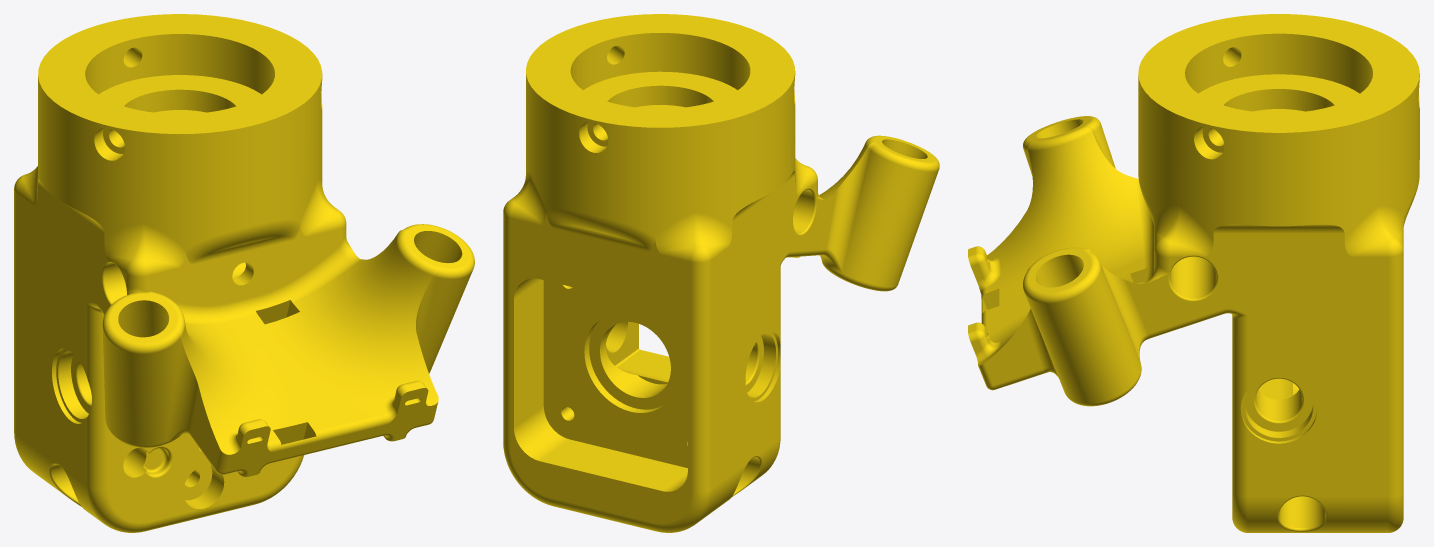
File: A26_H101_body.gltf
The picture shows the model from 3 angles, left to right: view 1: azimuth 30°, elevation 25°; view 2: azimuth 150°, elevation 25°; view 3: azimuth 270°, elevation 25°; orthographic projection. The views are drawn at different scales.
Visible parts, largest first — view 1: mesh2891, mesh3099, mesh3067, mesh2881, mesh3106, mesh2880, mesh2944, mesh3161, mesh3111, mesh3044, mesh2955, mesh3089 (+30 smaller); view 2: mesh2891, mesh3184, mesh3099, mesh3185, mesh2881, mesh3111, mesh2880, mesh2915, mesh3186, mesh3187, mesh3143, mesh2879 (+20 smaller); view 3: mesh3077, mesh2891, mesh2881, mesh3106, mesh3064, mesh2880, mesh2913, mesh3194, mesh3084, mesh2879, mesh3048, mesh2878 (+21 smaller).
Part boxes in pixels (x1,y1,x2,y2): mesh2891: (38, 74, 322, 249); mesh3099: (16, 185, 129, 486); mesh3067: (264, 233, 438, 416); mesh2881: (38, 14, 322, 133); mesh3106: (181, 320, 288, 454); mesh2880: (85, 34, 274, 94); mesh2944: (147, 224, 338, 305); mesh3161: (108, 429, 296, 522); mesh3111: (102, 327, 178, 445); mesh3044: (226, 388, 434, 476); mesh2955: (235, 314, 371, 430); mesh3089: (87, 304, 108, 489); mesh2891: (526, 71, 795, 237); mesh3184: (510, 214, 691, 523); mesh3099: (711, 176, 836, 488); mesh3185: (543, 280, 687, 467); mesh2881: (526, 14, 794, 127); mesh3111: (842, 151, 938, 286); mesh2880: (570, 33, 750, 90); mesh2915: (691, 260, 711, 492); mesh3186: (514, 279, 543, 427); mesh3187: (540, 439, 687, 490); mesh3143: (589, 313, 676, 409); mesh2879: (583, 71, 737, 101); mesh3077: (1126, 233, 1387, 496); mesh2891: (1138, 74, 1419, 240); mesh2881: (1138, 14, 1419, 132); mesh3106: (986, 132, 1143, 295); mesh3064: (1025, 264, 1141, 403); mesh2880: (1185, 33, 1372, 93); mesh2913: (1388, 252, 1403, 496); mesh3194: (1248, 497, 1387, 532); mesh3084: (1232, 315, 1247, 496); mesh2879: (1198, 74, 1359, 105); mesh3048: (984, 317, 1042, 385); mesh2878: (1223, 89, 1334, 111).
Bounding box in the file's own units: 0.0844 × 0.0961 × 0.0921.
